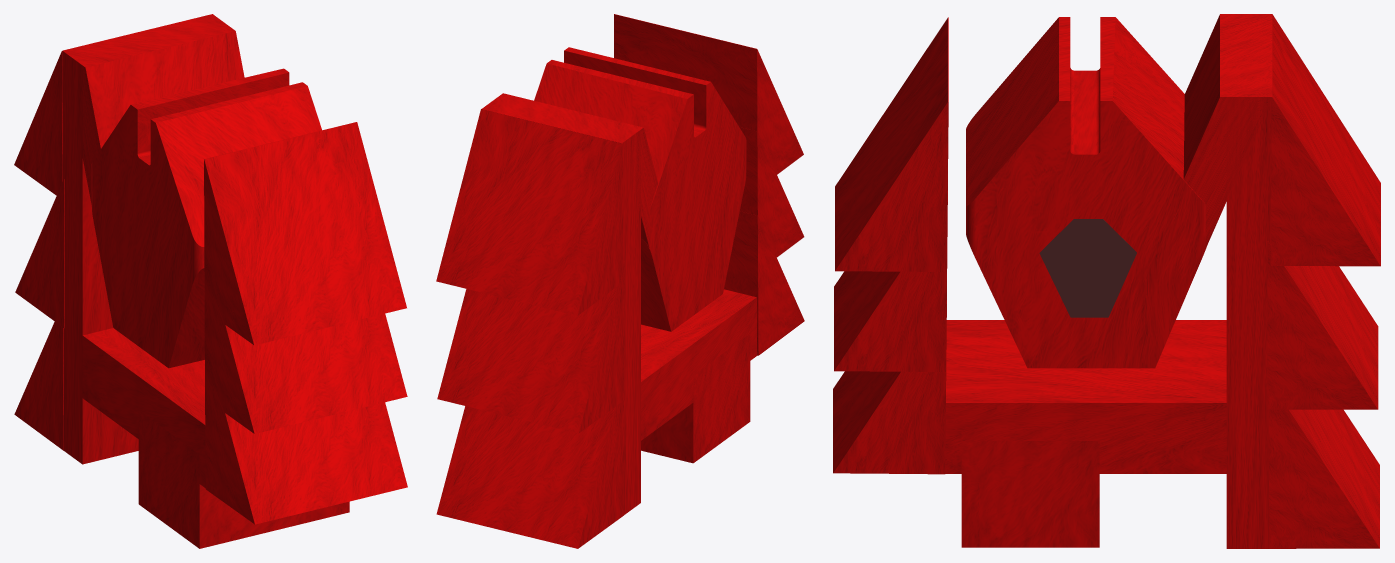
The model's file is asset.gltf.
3 views of the same model, side by side, from view 1: azimuth 30°, elevation 25°; view 2: azimuth 150°, elevation 25°; view 3: azimuth 270°, elevation 25° (orthographic). The views are drawn at different scales.
Parts seen in each view (by area): view 1: Merged Objects 5, Box - baked, Merged Objects 3, Merged Objects 4, Box 2 - baked, Box, Box 1, Box 4, Merged Objects 1, Merged Objects 2, Merged Objects; view 2: Merged Objects 2, Box - baked, Merged Objects 1, Merged Objects, Merged Objects 5, Box 1, Box 4, Box, Merged Objects 3, Box 2 - baked, Merged Objects 4; view 3: Box - baked, Box 1, Box, Merged Objects 5, Merged Objects 2, Merged Objects 1, Box 4, Merged Objects, Box 2 - baked, Merged Objects 3, Merged Objects 4, Box 5 - baked.
Boxes of the visible parts, left/top/right/bottom form: Merged Objects 5: left=204, top=122, right=406, bottom=345; Box - baked: left=91, top=68, right=321, bottom=368; Merged Objects 3: left=204, top=338, right=407, bottom=524; Merged Objects 4: left=204, top=248, right=407, bottom=433; Box 2 - baked: left=62, top=14, right=244, bottom=204; Box: left=62, top=51, right=138, bottom=464; Box 1: left=82, top=328, right=205, bottom=487; Box 4: left=138, top=410, right=349, bottom=548; Merged Objects 1: left=15, top=179, right=64, bottom=328; Merged Objects 2: left=14, top=51, right=62, bottom=196; Merged Objects: left=14, top=303, right=63, bottom=450; Merged Objects 2: left=436, top=109, right=623, bottom=315; Box - baked: left=534, top=47, right=746, bottom=331; Merged Objects 1: left=437, top=261, right=624, bottom=433; Merged Objects: left=436, top=400, right=623, bottom=548; Merged Objects 5: left=614, top=14, right=803, bottom=174; Box 1: left=641, top=289, right=757, bottom=440; Box 4: left=641, top=334, right=750, bottom=463; Box: left=622, top=131, right=640, bottom=515; Merged Objects 3: left=724, top=211, right=804, bottom=355; Box 2 - baked: left=481, top=93, right=658, bottom=247; Merged Objects 4: left=739, top=127, right=804, bottom=257; Box - baked: left=966, top=17, right=1206, bottom=368; Box 1: left=945, top=320, right=1226, bottom=473; Box: left=1226, top=97, right=1271, bottom=548; Merged Objects 5: left=835, top=17, right=948, bottom=271; Merged Objects 2: left=1270, top=14, right=1380, bottom=266; Merged Objects 1: left=1267, top=241, right=1378, bottom=409; Box 4: left=961, top=441, right=1099, bottom=547; Merged Objects: left=1269, top=382, right=1379, bottom=548; Box 2 - baked: left=1183, top=14, right=1272, bottom=248; Merged Objects 3: left=833, top=300, right=946, bottom=474; Merged Objects 4: left=834, top=191, right=947, bottom=371; Box 5 - baked: left=1039, top=219, right=1136, bottom=317.
Bounding box in the file's own units: 0.0306 × 0.0762 × 0.0837.
Materials: 12 (11 with a texture image).
